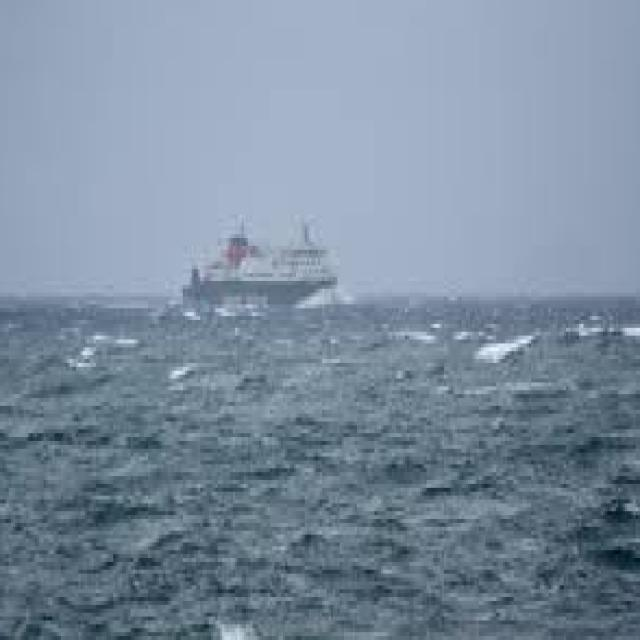cargoship: (171, 229, 370, 349)
